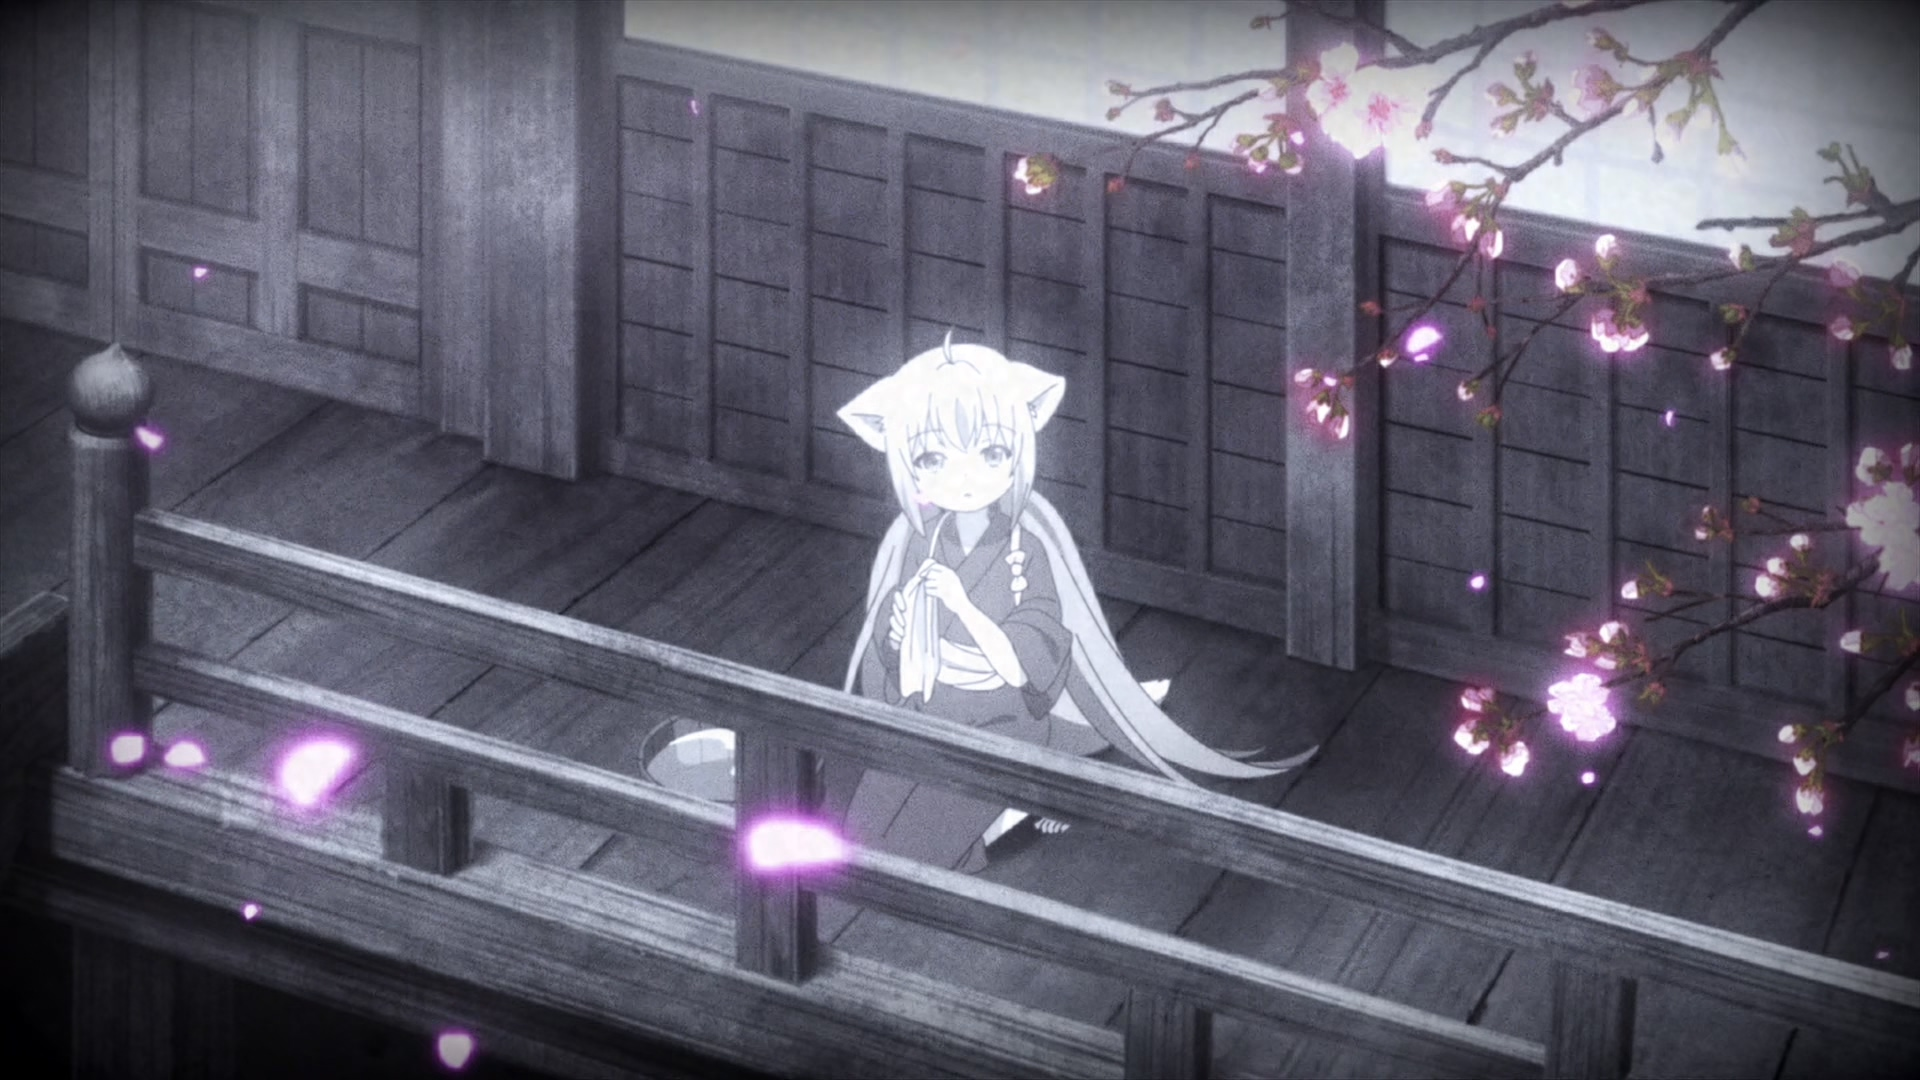柚: (833, 324, 1323, 874)
